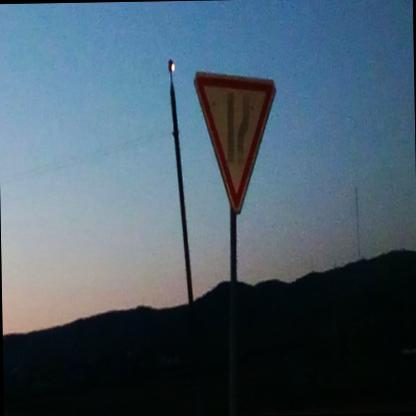road_sign: (194, 72, 275, 214)
